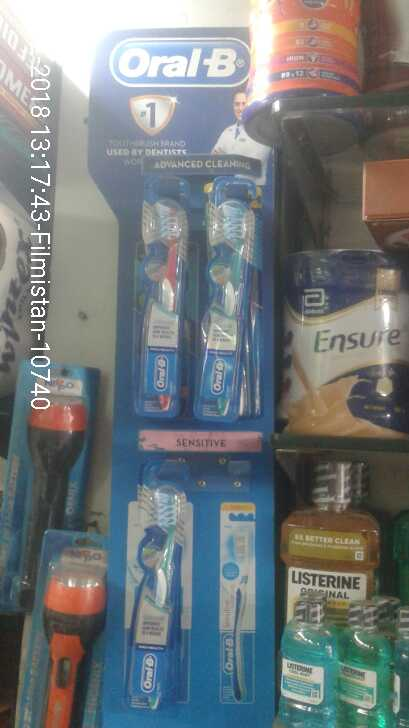oralb: (191, 179, 247, 419), (126, 195, 183, 418), (129, 487, 182, 708)
